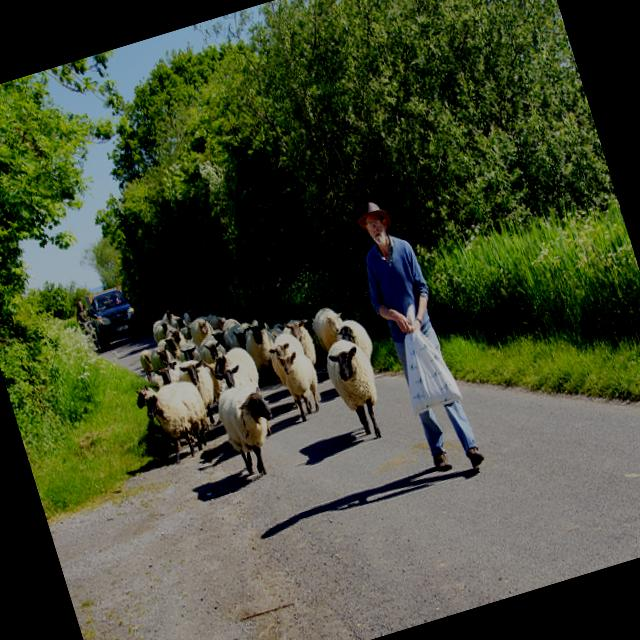Vehicle: (81, 282, 145, 351)
